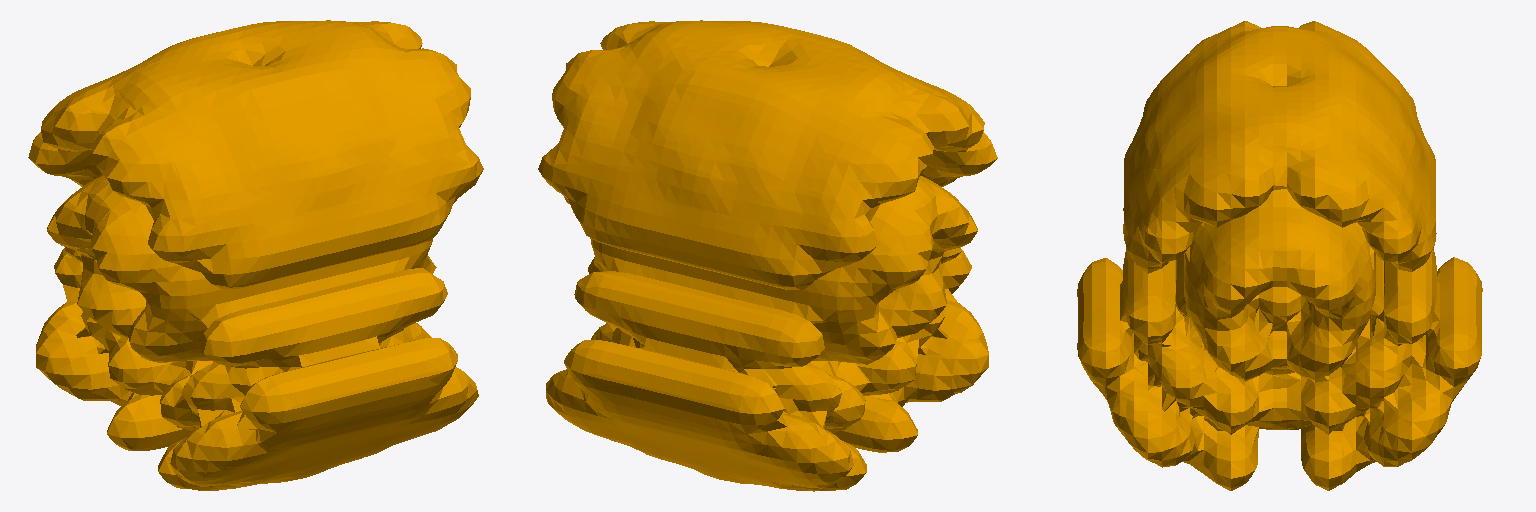
robot.urdf — F17_0:
<?xml version="1.0"?>
<robot name="F17_0">
  <link name="base_link">
    <inertial>
      <mass value="0.09867" />
      <origin xyz="0 0 0" />
      <inertia  ixx="0.0002" ixy="0.0"  ixz="0.0"  iyy="0.0002"  iyz="0.0" izz="0.0002" />
    </inertial>
    <visual>
      <geometry>
        <mesh filename="../../../meshes/egad/train/F17_0.obj" />
      </geometry>
    </visual>
    <collision>
      <geometry>
        <mesh filename="../../../meshes/egad/train/F17_0.obj" />
      </geometry>
    </collision>
  </link>
</robot>

--- Render facts (derived) ---
The picture shows the robot from 3 angles, left to right: view 1: azimuth 30°, elevation 25°; view 2: azimuth 150°, elevation 25°; view 3: azimuth 270°, elevation 25°; orthographic projection.
Robot: F17_0 — 1 links, 0 joints (none); root link base_link; default pose: all joints at 0.
Links seen in each view (by area): view 1: base_link; view 2: base_link; view 3: base_link.
Link boxes in pixels (bbox=[...]): base_link: bbox=[28, 20, 483, 490]; base_link: bbox=[538, 20, 997, 491]; base_link: bbox=[1077, 21, 1482, 490].
Bounding box of the posed robot: 0.06 × 0.0609 × 0.0625 m (x, y, z).
Meshes: 1 distinct files referenced, 1 mesh visuals loaded (1 OBJ).